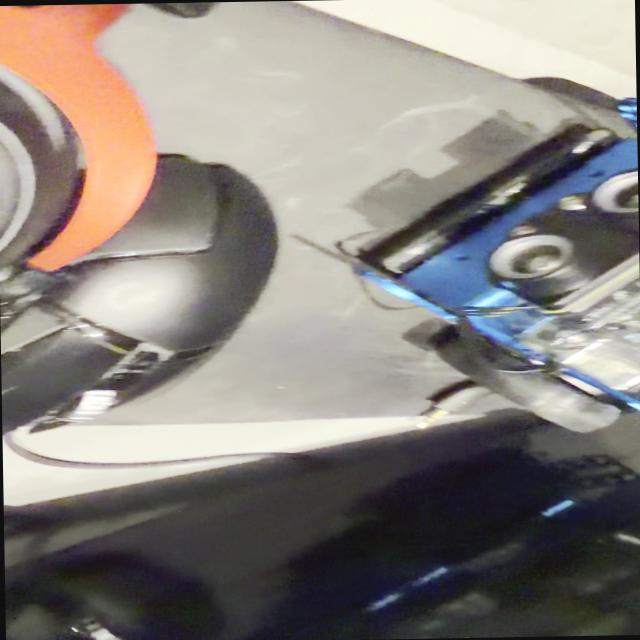mbot-detection: (332, 86, 640, 441)
